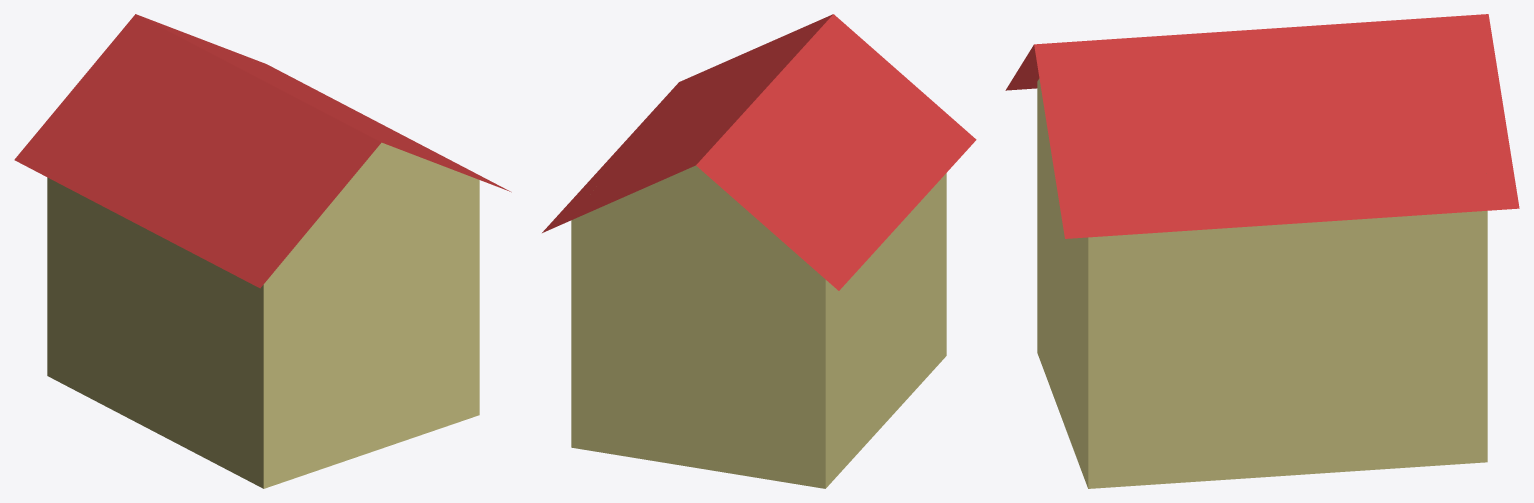
3 views of the same model, side by side, from view 1: azimuth 30°, elevation 25°; view 2: azimuth 150°, elevation 25°; view 3: azimuth 270°, elevation 25° (orthographic). The views are drawn at different scales.
Size of the model in its own units: 12.09 by 13.84 by 11.14.
